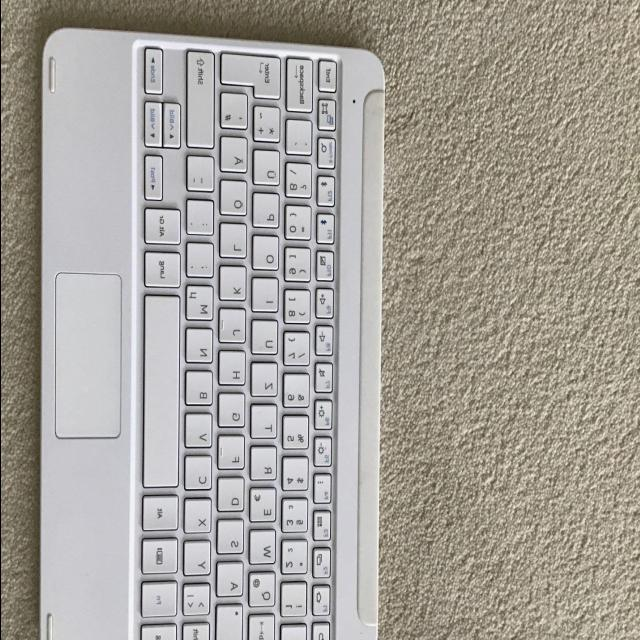0: (286, 207, 314, 245)
1: (281, 585, 309, 621)
2: (282, 542, 310, 579)
3: (283, 501, 311, 538)
4: (283, 459, 311, 495)
5: (283, 418, 311, 454)
6: (284, 376, 312, 412)
7: (284, 334, 312, 370)
8: (285, 292, 313, 329)
9: (285, 250, 313, 287)
a: (218, 565, 246, 601)
accent: (287, 123, 315, 160)
ae: (222, 139, 250, 177)
alt-left: (143, 496, 181, 534)
altgr-right: (145, 210, 183, 249)
b: (186, 373, 215, 411)
c: (186, 458, 214, 494)
caret: (282, 627, 309, 640)
comma: (187, 245, 216, 283)
d: (218, 480, 246, 516)
del: (287, 59, 315, 117)
e: (251, 490, 279, 526)
enter: (222, 56, 284, 104)
f: (219, 438, 247, 474)
g: (220, 396, 248, 432)
h: (220, 353, 248, 390)
hash: (222, 96, 250, 134)
i: (253, 281, 281, 317)
j: (220, 311, 248, 347)
k: (220, 268, 248, 305)
keyboard: (133, 44, 341, 640)
l: (221, 226, 249, 262)
less: (184, 586, 212, 620)
m: (187, 287, 216, 326)
minus: (188, 158, 216, 197)
n: (187, 330, 215, 368)
o: (253, 238, 281, 275)
oe: (221, 182, 249, 220)
p: (254, 195, 282, 232)
plus: (254, 109, 282, 147)
point: (187, 202, 216, 240)
q: (250, 574, 278, 612)
r: (251, 450, 279, 484)
s: (218, 522, 246, 558)
shift-left: (183, 624, 213, 640)
shift-lock: (217, 606, 245, 640)
shift-right: (187, 52, 217, 152)
space: (143, 297, 182, 491)
ss: (286, 165, 314, 203)
strg-left: (141, 626, 179, 640)
t: (252, 407, 280, 443)
tab: (249, 616, 277, 640)
u: (252, 323, 280, 359)
ue: (254, 153, 282, 191)
v: (186, 416, 214, 452)
w: (250, 533, 278, 569)
x: (185, 501, 213, 537)
y: (185, 543, 213, 580)
z: (252, 365, 280, 401)
